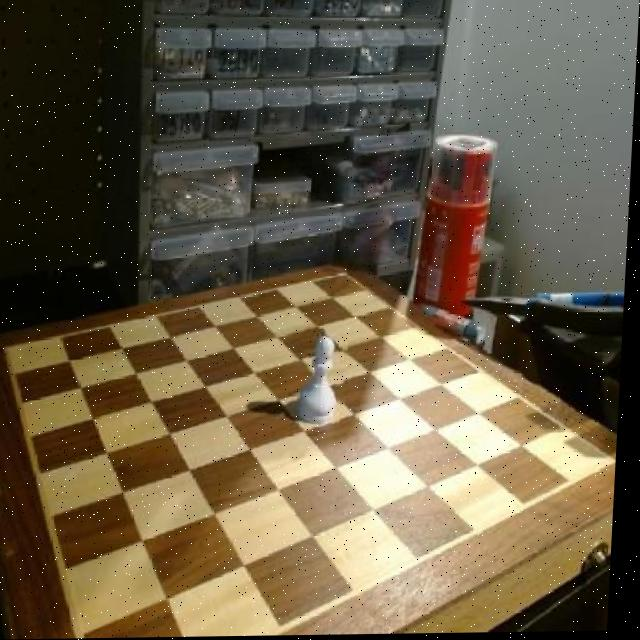white-knight: (301, 329, 352, 432)
